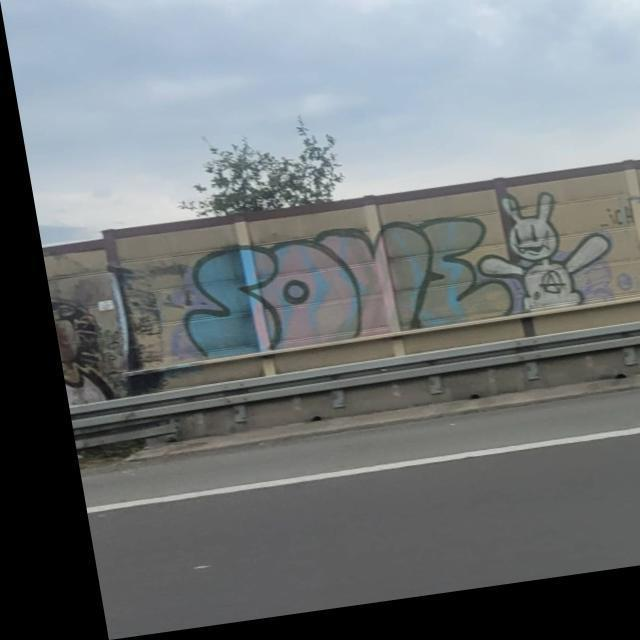-: (168, 224, 506, 364), (457, 194, 604, 331)
